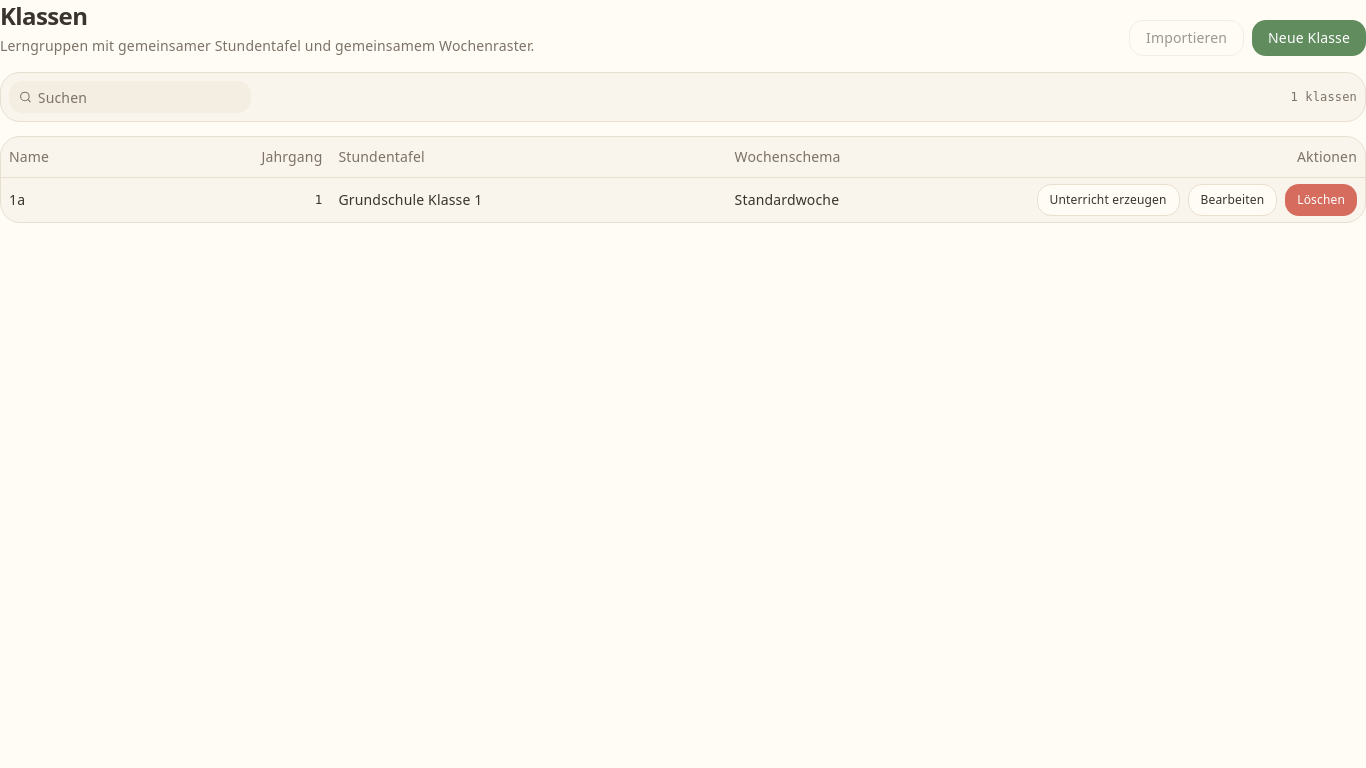
SchoolClassesPage › creates a school class via the dialog and closes on success
Check: the text "1a" is shown, box [1, 177, 140, 222]
Click the button "Neue Klasse": point(1309, 38) [1252, 20, 1365, 56]
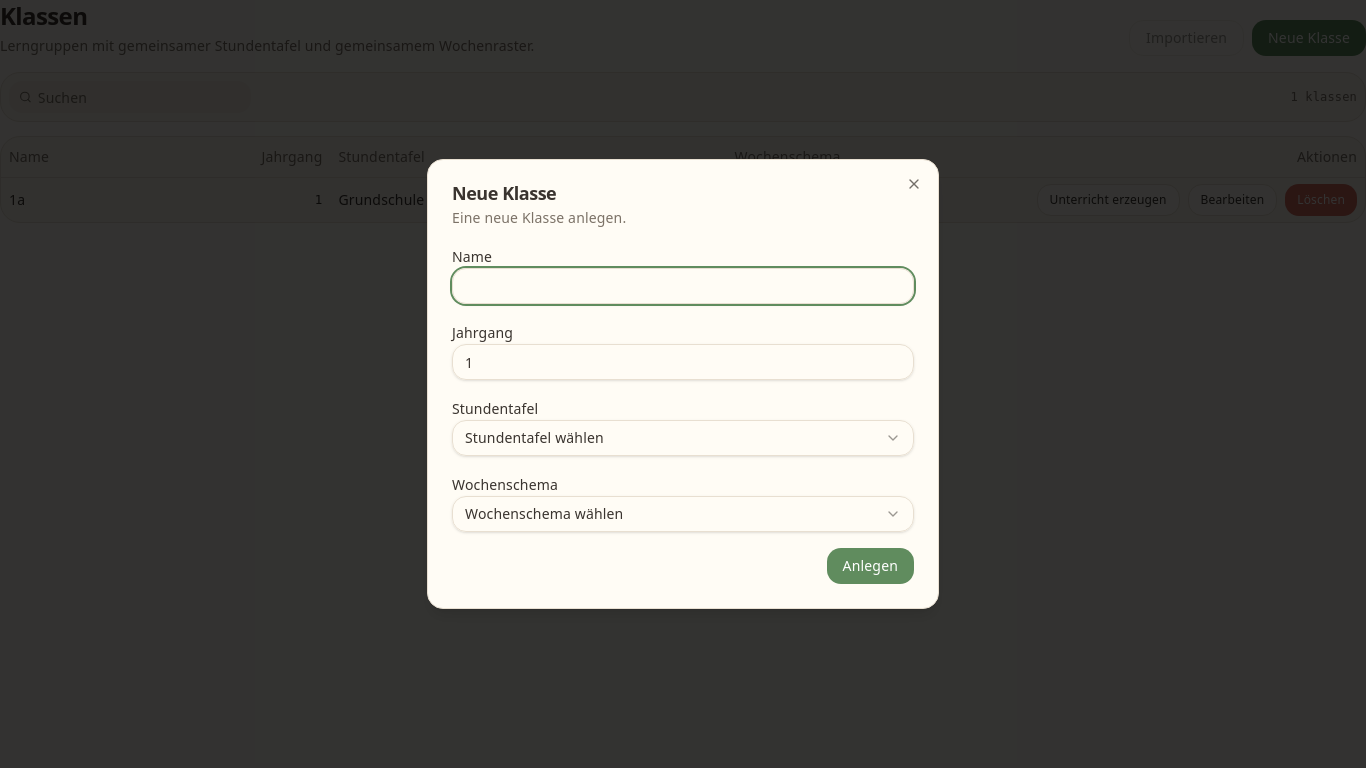
In the field labelled "Name": point(683, 286) [452, 268, 914, 304], type "1b"
// Open the curriculum select and pick the seeded entry.
Click the dropdown labelled "Stundentafel wählen": point(534, 438) [452, 420, 914, 456]
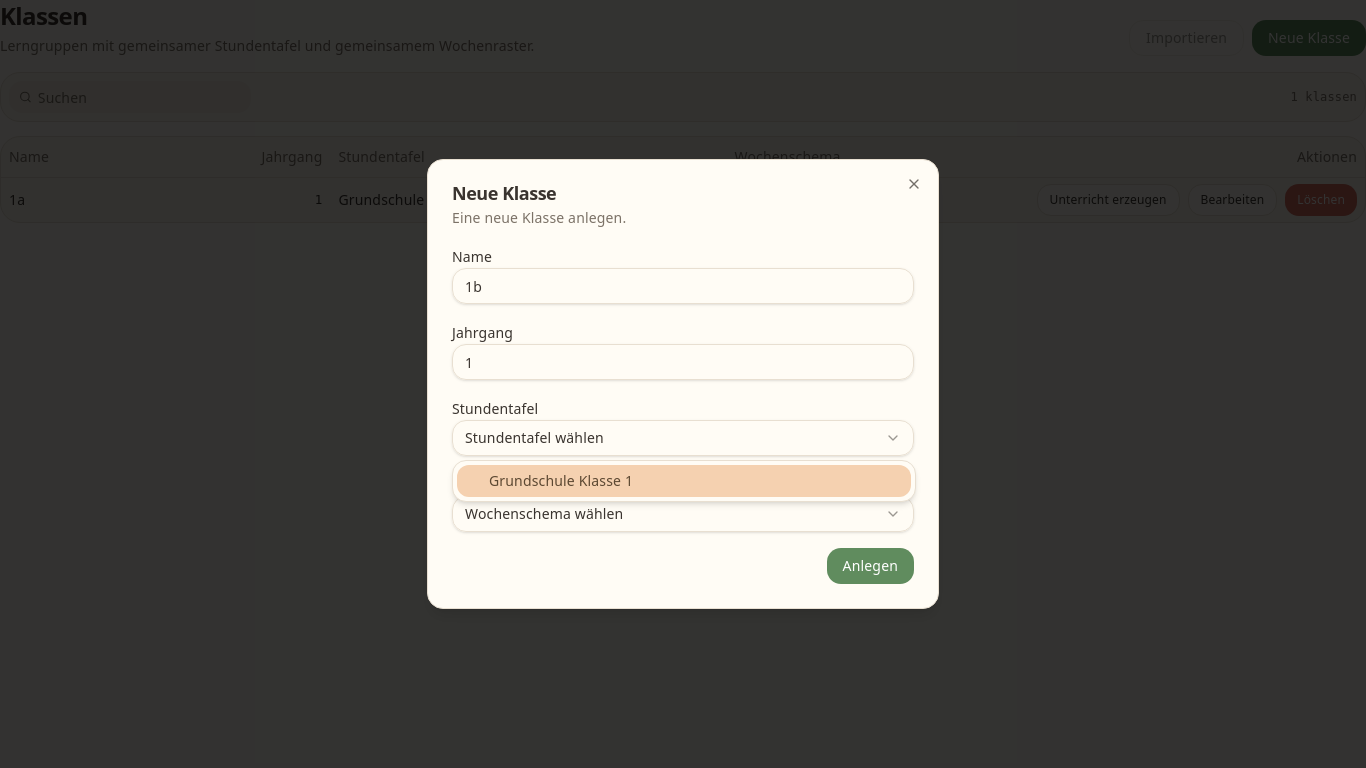
Click the option "Grundschule Klasse 1": point(561, 480) [457, 465, 911, 497]
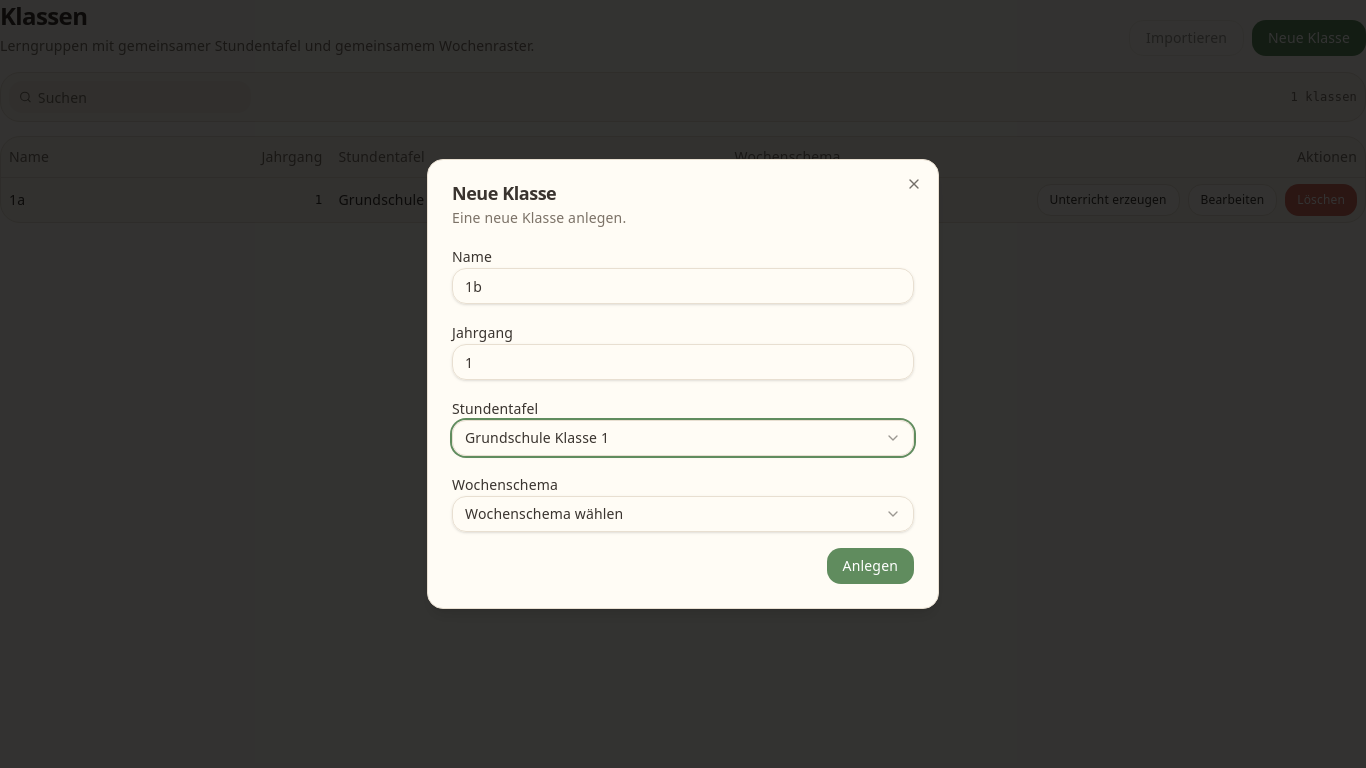
// Open the week scheme select and pick the seeded entry.
Click the dropdown labelled "Wochenschema wählen": point(544, 514) [452, 496, 914, 532]
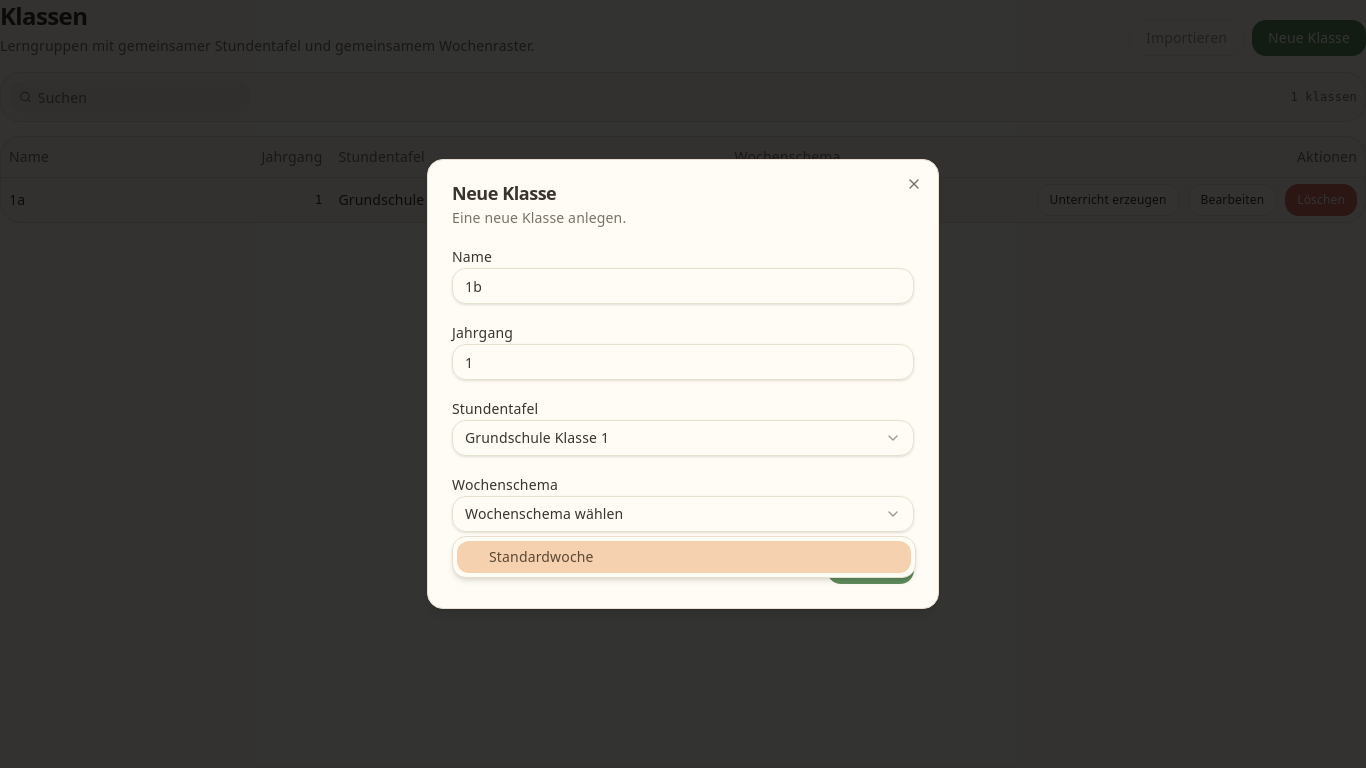
Click the option "Standardwoche": point(541, 556) [457, 541, 911, 573]
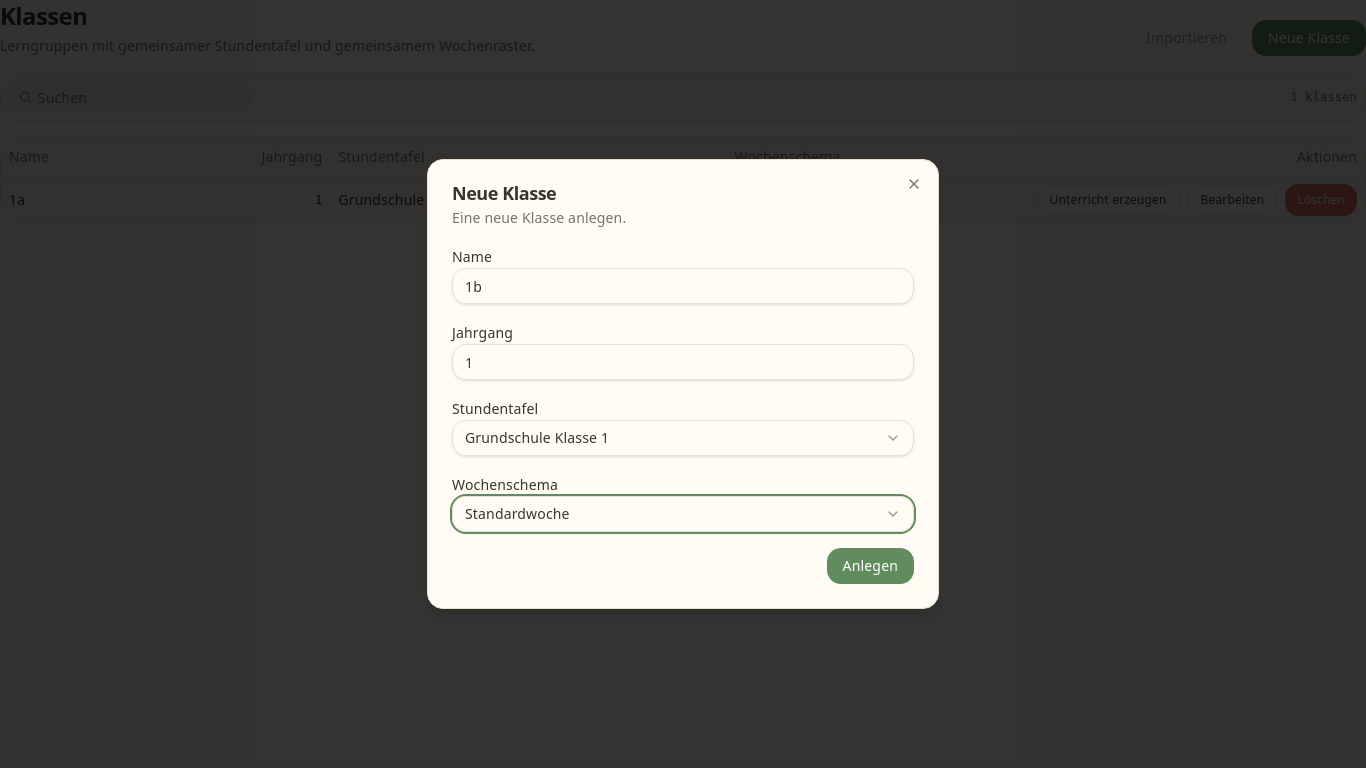
Click the button "Anlegen": point(870, 566) [827, 548, 914, 584]
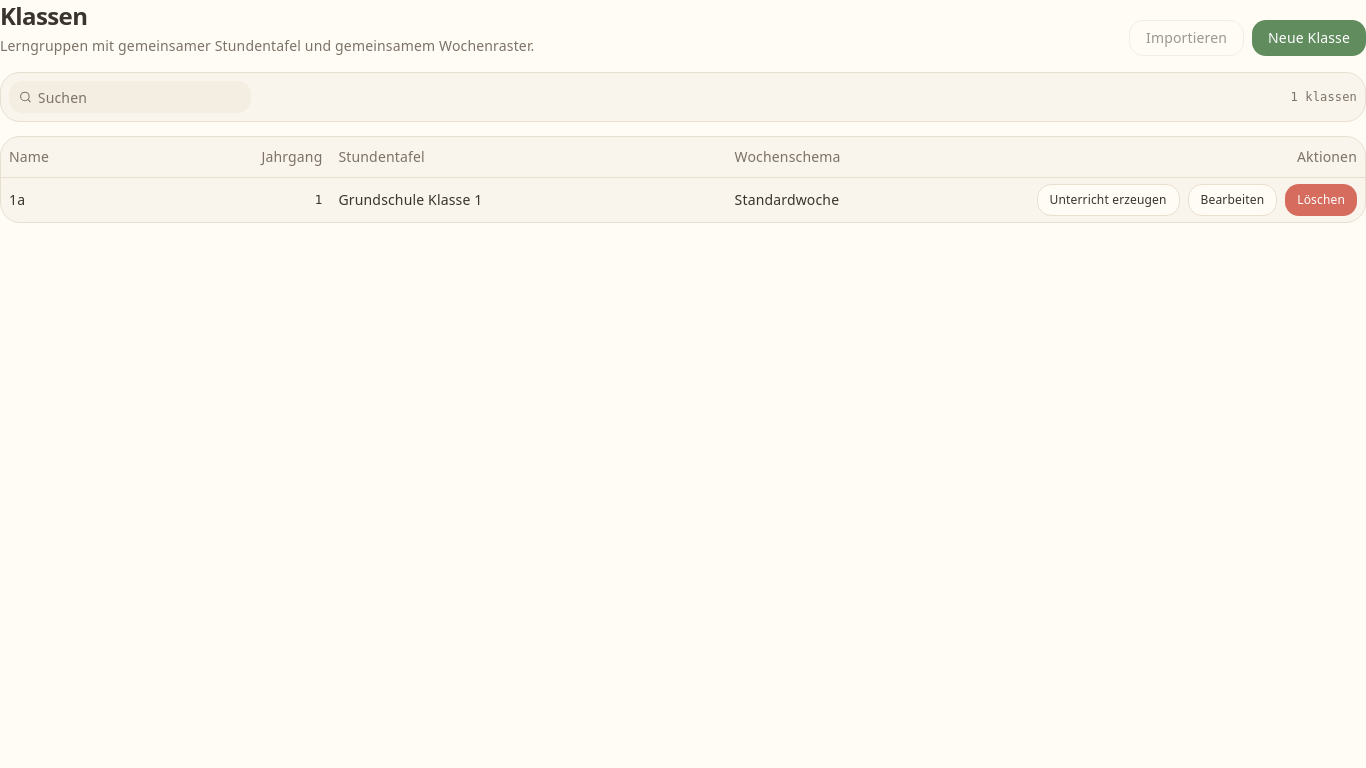
Check: the dialog is gone
